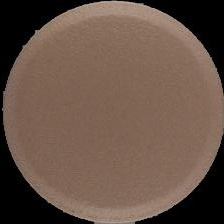54868-5812: (0, 0, 224, 224)
